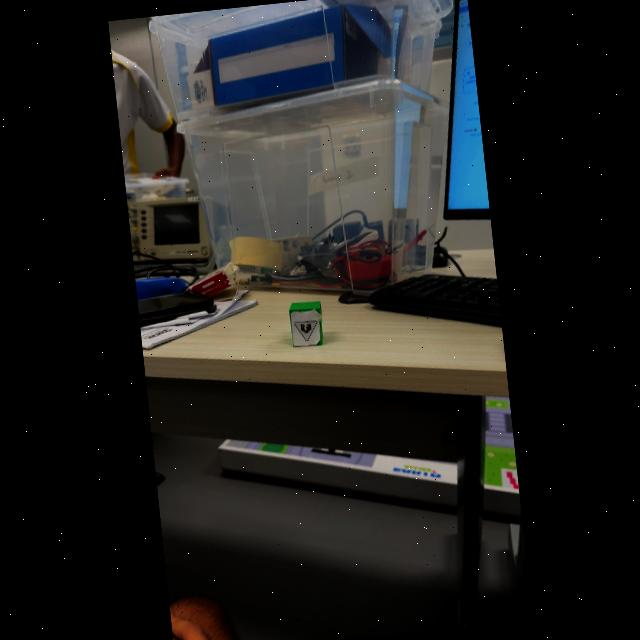Earthquake: (294, 320, 317, 340)
